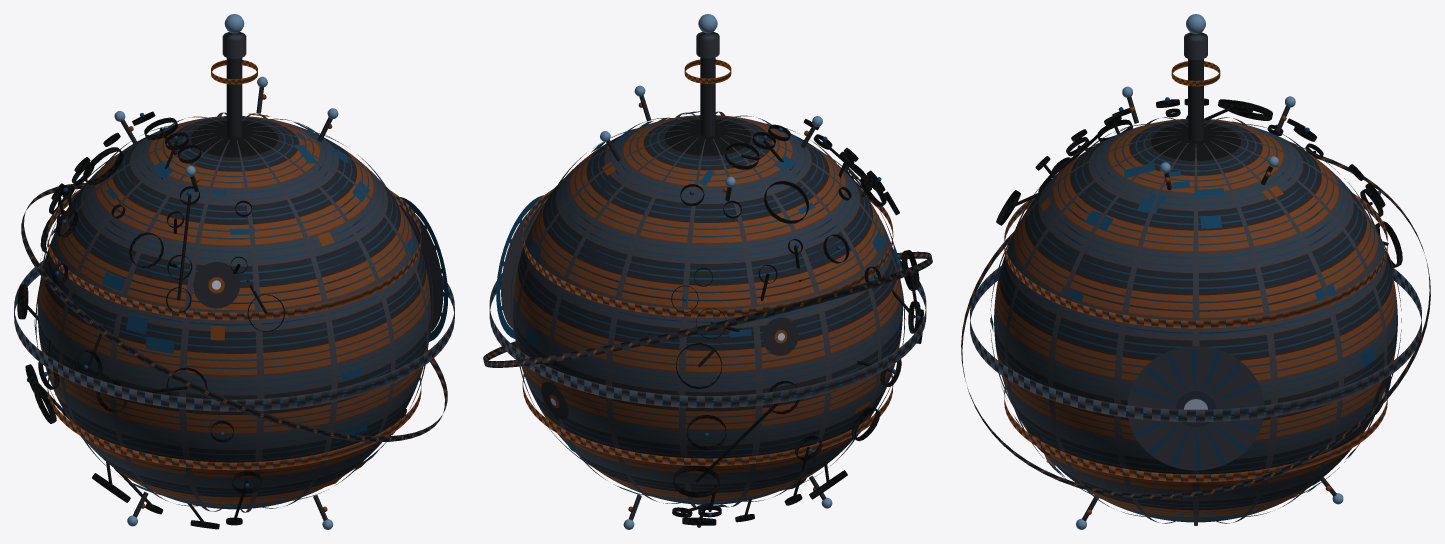
Rendered from SciFiOrb.obj.
3 renders of one model, left to right at view 1: azimuth 30°, elevation 25°; view 2: azimuth 150°, elevation 25°; view 3: azimuth 270°, elevation 25°, orthographic. The views are drawn at different scales.
Visible parts, largest first — view 1: MetalChrome, MetalGun, MetalCopper, GlowCyan, FrameDark, MetalDark, GlowAmber, GlowCyanDeep, GlowBeacon; view 2: MetalChrome, MetalGun, MetalCopper, GlowCyan, FrameDark, MetalDark, GlowCyanDeep, GlowAmber, GlowBeacon; view 3: MetalChrome, MetalGun, MetalCopper, GlowCyan, FrameDark, MetalDark, GlowCyanDeep, GlowAmber, GlowBeacon.
Boxes of the visible parts, box(x1,y1,x2,y2) form: MetalChrome: box(14, 32, 454, 512); MetalGun: box(21, 58, 447, 520); MetalCopper: box(39, 116, 429, 503); GlowCyan: box(14, 113, 454, 508); FrameDark: box(17, 111, 284, 529); MetalDark: box(145, 113, 315, 496); GlowAmber: box(22, 60, 446, 511); GlowCyanDeep: box(100, 156, 368, 338); GlowBeacon: box(114, 14, 338, 529); MetalChrome: box(489, 31, 926, 507); MetalGun: box(483, 57, 932, 520); MetalCopper: box(514, 115, 901, 499); GlowCyan: box(489, 111, 925, 527); FrameDark: box(671, 119, 923, 525); MetalDark: box(664, 119, 812, 477); GlowCyanDeep: box(575, 149, 839, 335); GlowAmber: box(484, 59, 932, 511); GlowBeacon: box(600, 14, 832, 529); MetalChrome: box(970, 32, 1421, 525); MetalGun: box(961, 59, 1430, 522); MetalCopper: box(995, 118, 1396, 516); GlowCyan: box(970, 97, 1421, 522); FrameDark: box(996, 98, 1402, 267); MetalDark: box(1151, 123, 1240, 160); GlowCyanDeep: box(1059, 154, 1332, 346); GlowAmber: box(961, 61, 1430, 514); GlowBeacon: box(1076, 14, 1343, 529).
Bounding box in the file's own units: 2.24 × 2.73 × 2.33.
